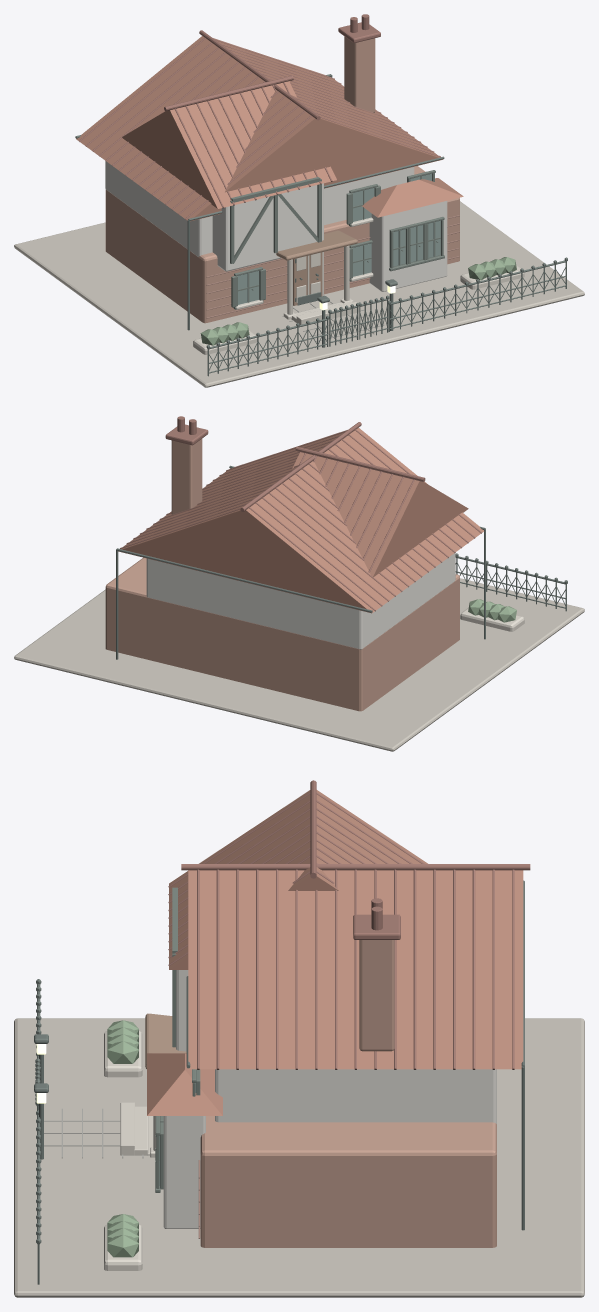
The model's file is house-315.glb.
3 views of the same model, one above another, from view 1: azimuth 30°, elevation 25°; view 2: azimuth 150°, elevation 25°; view 3: azimuth 270°, elevation 25° (orthographic). The views are drawn at different scales.
Parts seen in each view (by area): view 1: house-315; view 2: house-315; view 3: house-315.
Boxes of the visible parts, x1,y1,x2,y2 form: house-315: (14, 14, 584, 387); house-315: (14, 416, 584, 751); house-315: (14, 780, 584, 1297).
Size of the model in its own units: 18.5 by 10.04 by 16.2.
